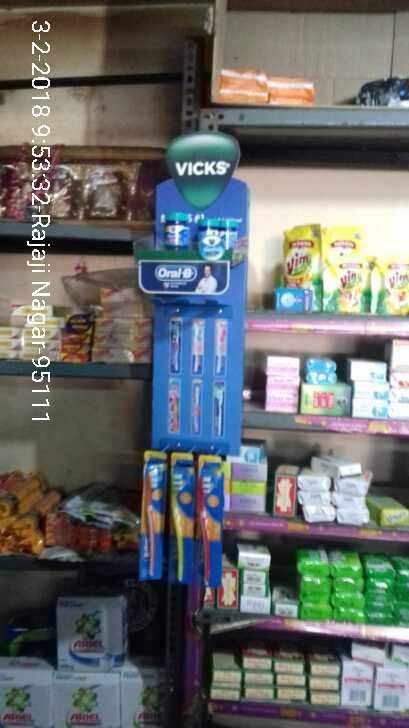pharmacy: (196, 454, 224, 587), (137, 449, 163, 582), (171, 449, 195, 584), (164, 211, 191, 251), (196, 218, 220, 251), (219, 218, 239, 251)
